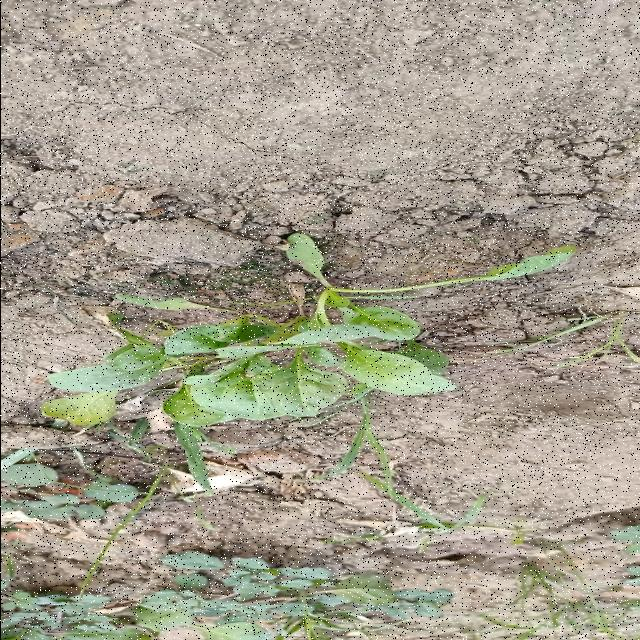plant: (44, 232, 573, 426)
